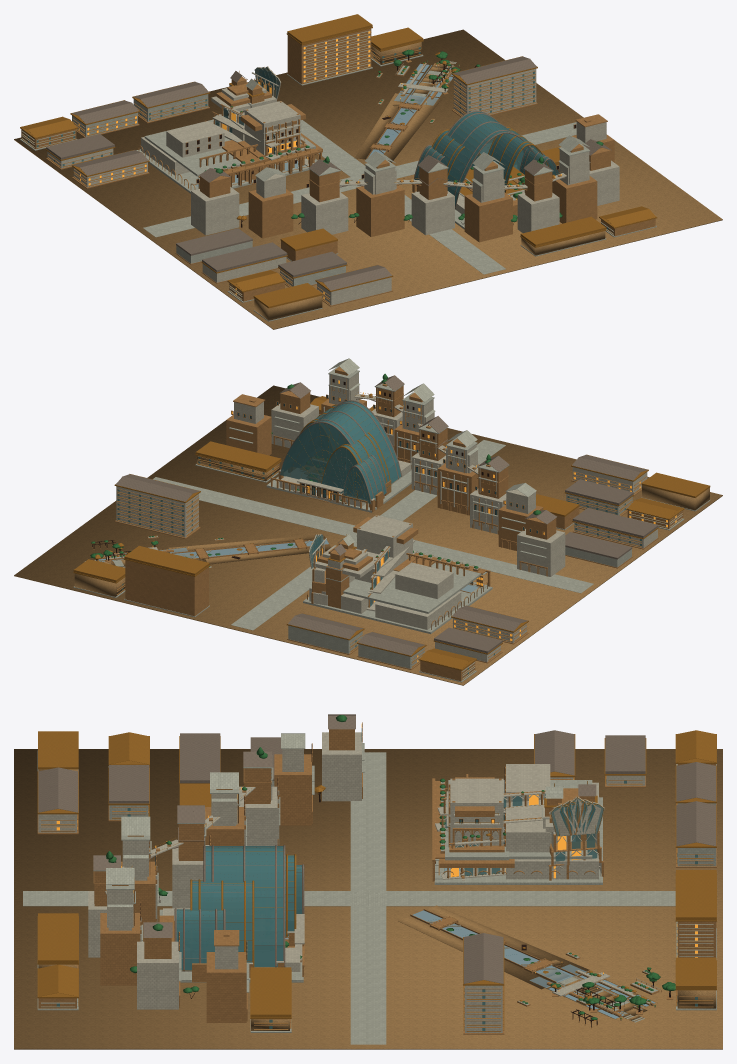
The model's file is nakaniwa-lod0.glb.
3 views of the same model, one above another, from view 1: azimuth 30°, elevation 25°; view 2: azimuth 150°, elevation 25°; view 3: azimuth 270°, elevation 25° (orthographic). The views are drawn at different scales.
Parts seen in each view (by area): view 1: HB_nakaniwa_LOD0_A21R6_CITY_terrain, HB_nakaniwa_LOD0_A21R6_CITY_wall_warm, HB_nakaniwa_LOD0_A21R6_CITY_wall, HB_nakaniwa_LOD0_A21R6_CITY_wall_cool, HB_nakaniwa_LOD0_A21R6_CITY_accent, HB_nakaniwa_LOD0_A21R6_CITY_roof, HB_nakaniwa_LOD0_LANDMARK_0_wall, HB_nakaniwa_LOD0_LANDMARK_0_wall_warm, HB_nakaniwa_LOD0_LANDMARK_1_glass, HB_nakaniwa_LOD0_LANDMARK_0_wall_cool, HB_nakaniwa_LOD0_A21R6_CITY_water, HB_nakaniwa_LOD0_LANDMARK_1_roof (+5 smaller); view 2: HB_nakaniwa_LOD0_A21R6_CITY_terrain, HB_nakaniwa_LOD0_A21R6_CITY_wall_warm, HB_nakaniwa_LOD0_A21R6_CITY_wall, HB_nakaniwa_LOD0_A21R6_CITY_wall_cool, HB_nakaniwa_LOD0_A21R6_CITY_roof, HB_nakaniwa_LOD0_A21R6_CITY_accent, HB_nakaniwa_LOD0_LANDMARK_0_wall, HB_nakaniwa_LOD0_LANDMARK_1_glass, HB_nakaniwa_LOD0_LANDMARK_0_wall_cool, HB_nakaniwa_LOD0_LANDMARK_0_wall_warm, HB_nakaniwa_LOD0_LANDMARK_1_roof, HB_nakaniwa_LOD0_LANDMARK_1_wall_warm (+6 smaller); view 3: HB_nakaniwa_LOD0_A21R6_CITY_terrain, HB_nakaniwa_LOD0_A21R6_CITY_wall_cool, HB_nakaniwa_LOD0_A21R6_CITY_wall_warm, HB_nakaniwa_LOD0_A21R6_CITY_accent, HB_nakaniwa_LOD0_A21R6_CITY_wall, HB_nakaniwa_LOD0_A21R6_CITY_roof, HB_nakaniwa_LOD0_LANDMARK_0_wall, HB_nakaniwa_LOD0_LANDMARK_1_glass, HB_nakaniwa_LOD0_LANDMARK_0_wall_warm, HB_nakaniwa_LOD0_LANDMARK_0_wall_cool, HB_nakaniwa_LOD0_LANDMARK_1_roof, HB_nakaniwa_LOD0_A21R6_CITY_water (+7 smaller).
Boxes of the visible parts, left/top/right/bottom form: HB_nakaniwa_LOD0_A21R6_CITY_terrain: left=14, top=29, right=722, bottom=329; HB_nakaniwa_LOD0_A21R6_CITY_wall_warm: left=21, top=28, right=655, bottom=306; HB_nakaniwa_LOD0_A21R6_CITY_wall: left=47, top=61, right=619, bottom=305; HB_nakaniwa_LOD0_A21R6_CITY_wall_cool: left=20, top=30, right=656, bottom=321; HB_nakaniwa_LOD0_A21R6_CITY_accent: left=20, top=14, right=657, bottom=308; HB_nakaniwa_LOD0_A21R6_CITY_roof: left=46, top=56, right=611, bottom=290; HB_nakaniwa_LOD0_LANDMARK_0_wall: left=141, top=66, right=315, bottom=175; HB_nakaniwa_LOD0_LANDMARK_0_wall_warm: left=138, top=67, right=322, bottom=189; HB_nakaniwa_LOD0_LANDMARK_1_glass: left=414, top=111, right=558, bottom=205; HB_nakaniwa_LOD0_LANDMARK_0_wall_cool: left=136, top=79, right=317, bottom=193; HB_nakaniwa_LOD0_A21R6_CITY_water: left=368, top=63, right=453, bottom=157; HB_nakaniwa_LOD0_LANDMARK_1_roof: left=414, top=110, right=559, bottom=208; HB_nakaniwa_LOD0_A21R6_CITY_terrain: left=14, top=385, right=722, bottom=685; HB_nakaniwa_LOD0_A21R6_CITY_wall_warm: left=92, top=366, right=683, bottom=681; HB_nakaniwa_LOD0_A21R6_CITY_wall: left=104, top=372, right=657, bottom=662; HB_nakaniwa_LOD0_A21R6_CITY_wall_cool: left=73, top=358, right=710, bottom=682; HB_nakaniwa_LOD0_A21R6_CITY_roof: left=111, top=375, right=658, bottom=655; HB_nakaniwa_LOD0_A21R6_CITY_accent: left=73, top=392, right=710, bottom=679; HB_nakaniwa_LOD0_LANDMARK_0_wall: left=309, top=515, right=461, bottom=629; HB_nakaniwa_LOD0_LANDMARK_1_glass: left=280, top=401, right=401, bottom=503; HB_nakaniwa_LOD0_LANDMARK_0_wall_cool: left=303, top=534, right=492, bottom=633; HB_nakaniwa_LOD0_LANDMARK_0_wall_warm: left=307, top=515, right=490, bottom=629; HB_nakaniwa_LOD0_LANDMARK_1_roof: left=279, top=400, right=401, bottom=504; HB_nakaniwa_LOD0_LANDMARK_1_wall_warm: left=270, top=466, right=391, bottom=512; HB_nakaniwa_LOD0_A21R6_CITY_terrain: left=14, top=749, right=722, bottom=1049; HB_nakaniwa_LOD0_A21R6_CITY_wall_cool: left=23, top=733, right=716, bottom=1044; HB_nakaniwa_LOD0_A21R6_CITY_wall_warm: left=37, top=722, right=716, bottom=1034; HB_nakaniwa_LOD0_A21R6_CITY_accent: left=37, top=730, right=716, bottom=1031; HB_nakaniwa_LOD0_A21R6_CITY_wall: left=38, top=732, right=661, bottom=1032; HB_nakaniwa_LOD0_A21R6_CITY_roof: left=38, top=714, right=716, bottom=1005; HB_nakaniwa_LOD0_LANDMARK_0_wall: left=435, top=764, right=604, bottom=880; HB_nakaniwa_LOD0_LANDMARK_1_glass: left=176, top=846, right=302, bottom=970; HB_nakaniwa_LOD0_LANDMARK_0_wall_warm: left=432, top=766, right=604, bottom=881; HB_nakaniwa_LOD0_LANDMARK_0_wall_cool: left=434, top=780, right=602, bottom=884; HB_nakaniwa_LOD0_LANDMARK_1_roof: left=174, top=845, right=304, bottom=971; HB_nakaniwa_LOD0_A21R6_CITY_water: left=412, top=910, right=655, bottom=1018.
Size of the model in its own units: 320 by 53.99 by 320.
12 materials, 9 textured.
